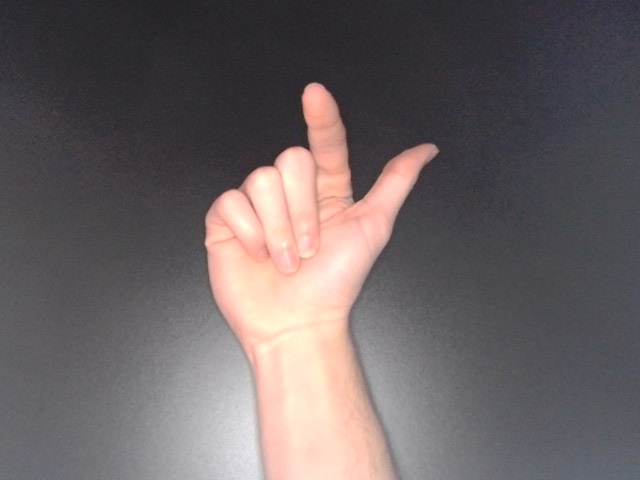t: (198, 78, 444, 364)
